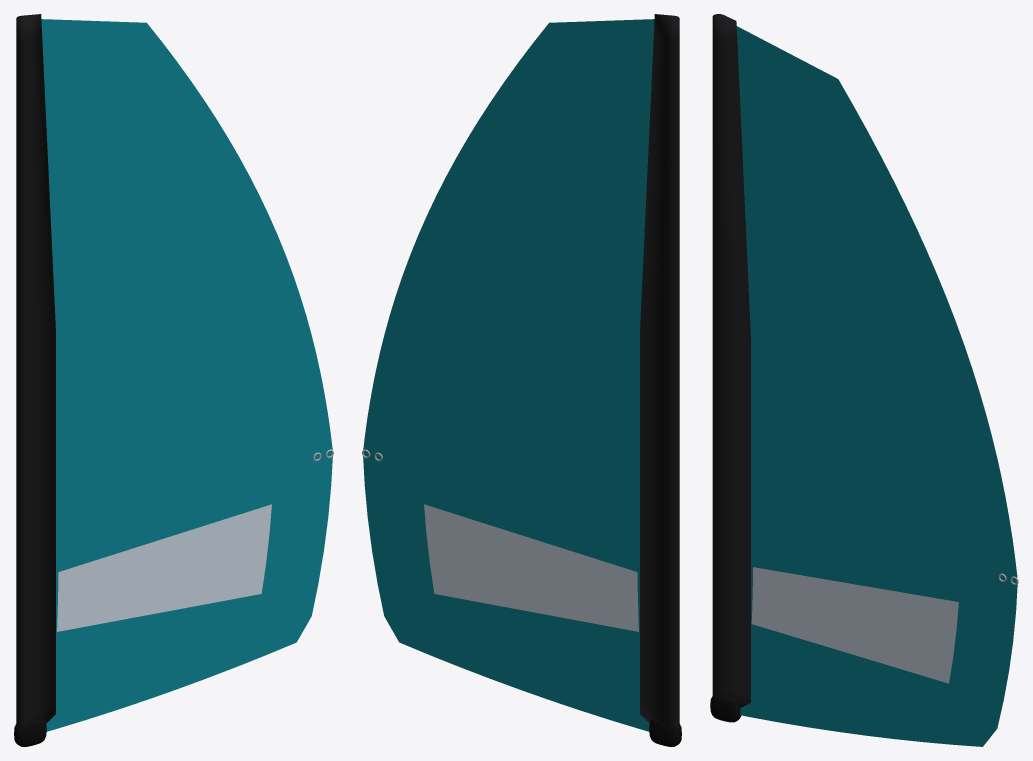
Rendered from s3kauai_slalom_6_1.glb.
The picture shows the model from 3 angles, left to right: view 1: azimuth 30°, elevation 25°; view 2: azimuth 150°, elevation 25°; view 3: azimuth 330°, elevation 25°; orthographic projection. The views are drawn at different scales.
Visible parts, largest first — view 1: SailCloth, TackFairing; view 2: SailCloth, TackFairing; view 3: SailCloth, TackFairing.
Part boxes in pixels (left/top/right/bottom): SailCloth: left=16, top=14, right=332, bottom=731; TackFairing: left=14, top=719, right=46, bottom=746; SailCloth: left=363, top=14, right=679, bottom=731; TackFairing: left=649, top=719, right=681, bottom=746; SailCloth: left=712, top=14, right=1017, bottom=746; TackFairing: left=710, top=696, right=741, bottom=722.
Size of the model in its own units: 1.92 by 4.21 by 0.08.
